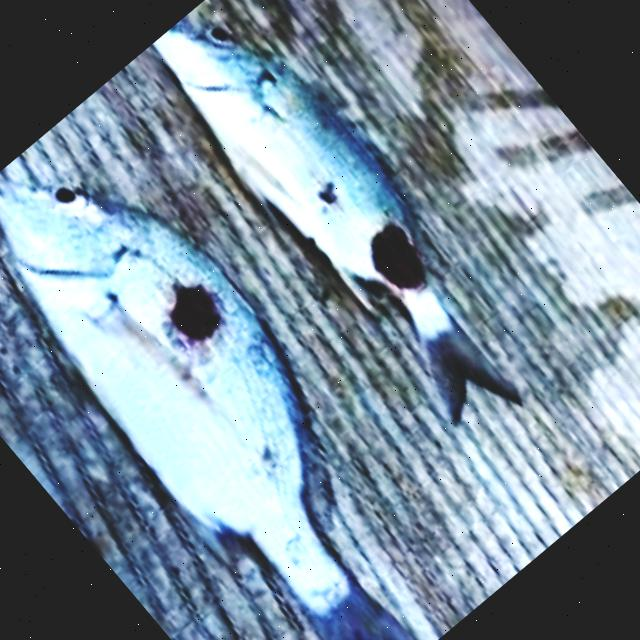Edwardsiella Ictaluri -Bacterial Red Disease-: (0, 184, 416, 640), (154, 28, 520, 420)
